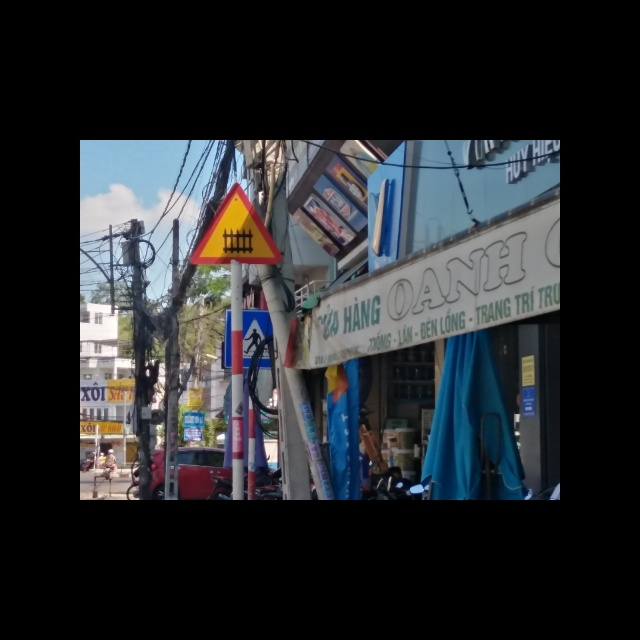Giao nhau với đường sắt có rào chắn: (186, 181, 283, 265)
